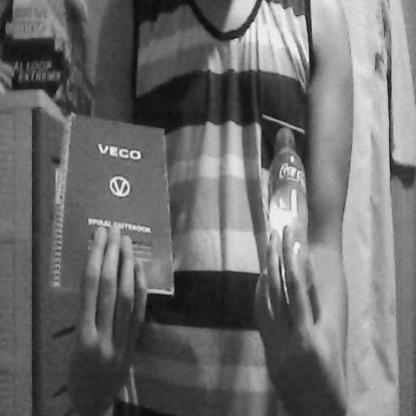Plastic Bottle: (263, 114, 317, 297)
